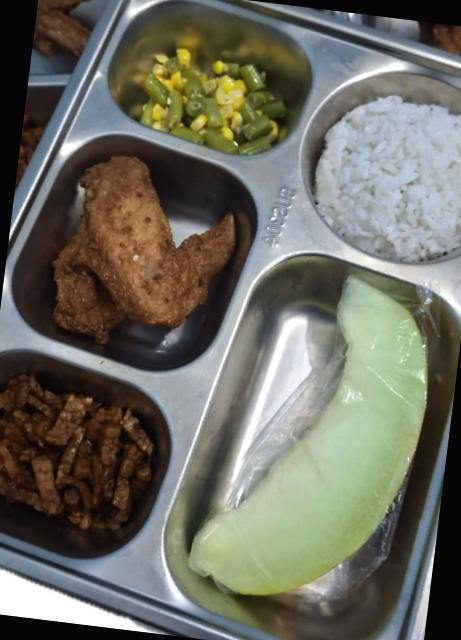ayam: (83, 156, 235, 328)
buah: (187, 277, 426, 595)
nasi: (313, 95, 460, 262)
sayur: (138, 48, 286, 153)
tempe: (0, 374, 154, 531)
